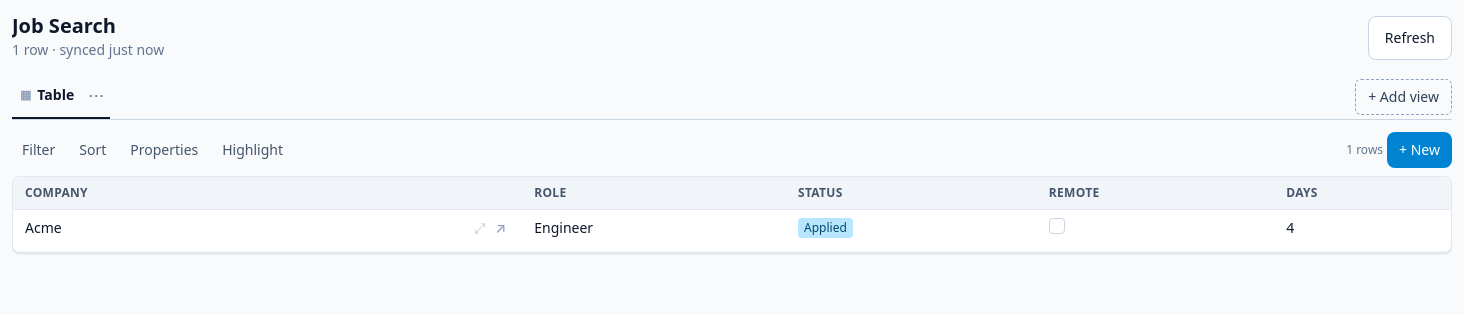
DatabaseView editing › rolls the cell back and shows the error when Notion rejects the edit
Click the cell named "Edit Role" at (654, 231), box left=522, top=210, right=786, bottom=252
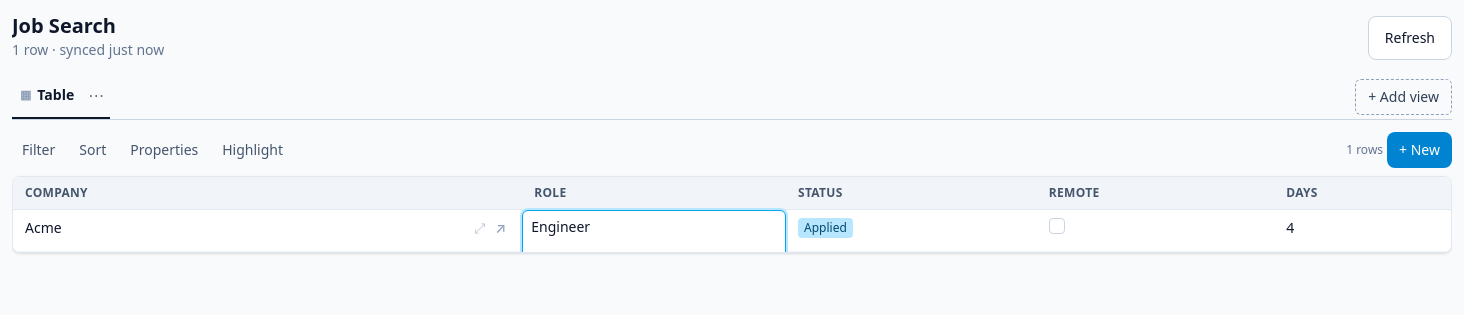
Replace the text in the text box named "Role" with "Bad" at (654, 237), box left=522, top=210, right=786, bottom=264
Then press Enter
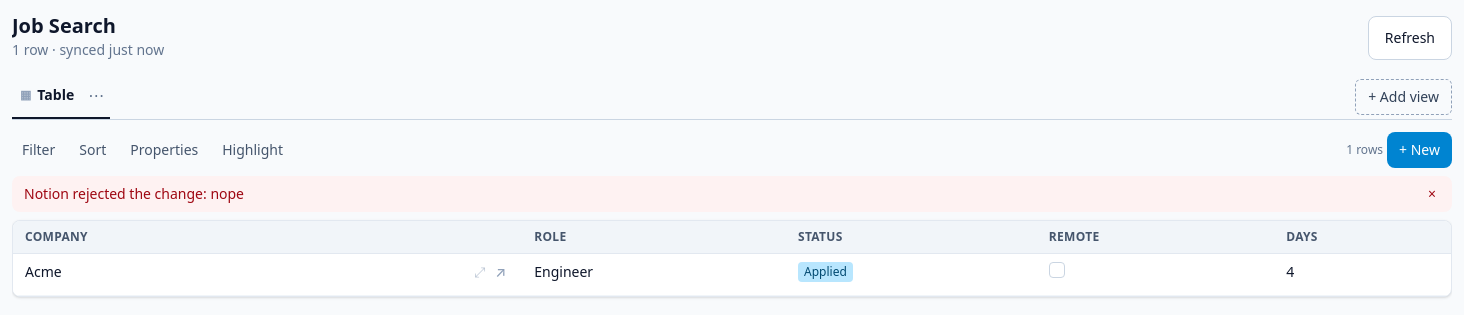
Check: the text "Engineer" is shown, box left=534, top=262, right=593, bottom=281
Check: the message shows "Notion rejected the change: nope", box left=24, top=184, right=244, bottom=203
